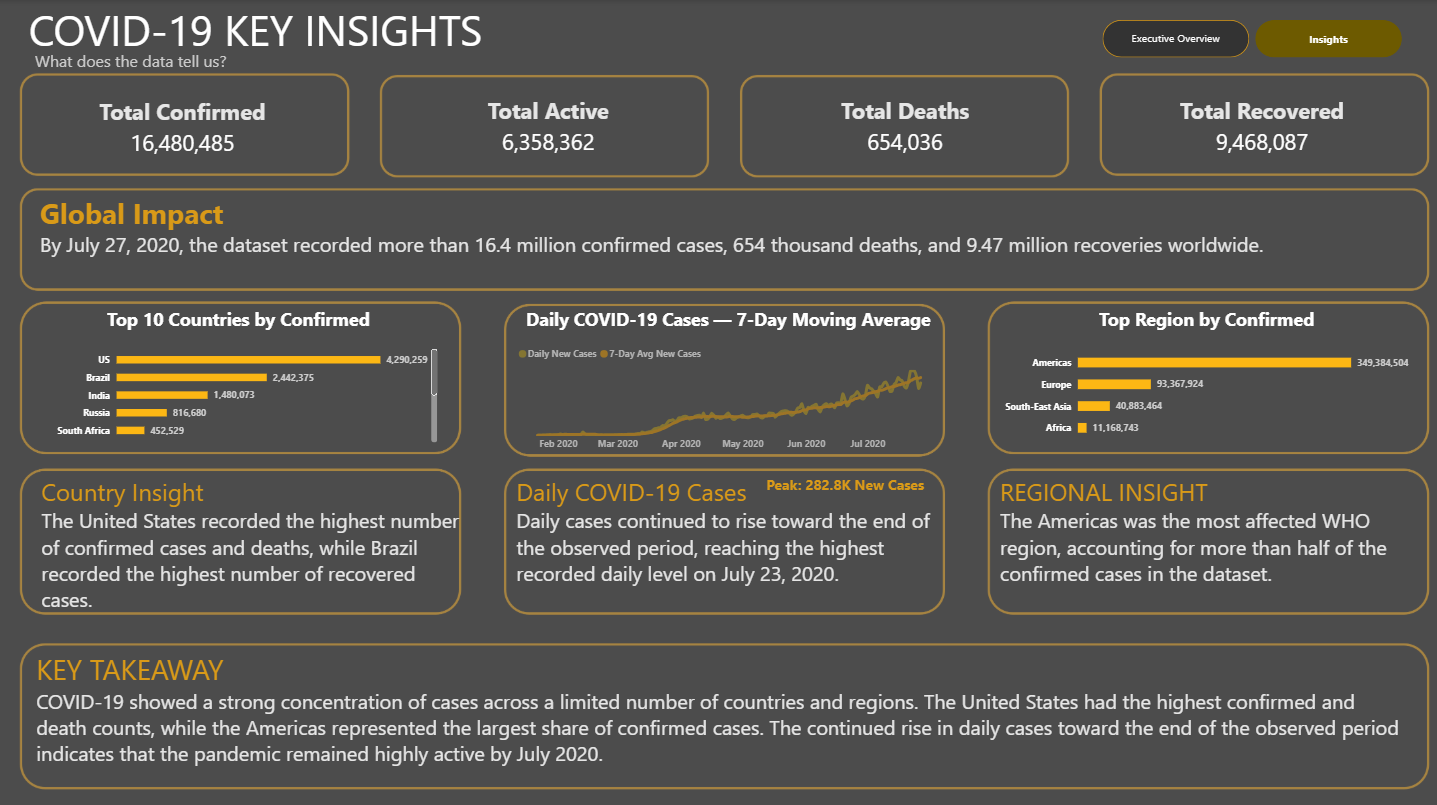

The dashboard page shown, as its layout file describes it:
{"tool":"powerbi","page":{"name":"Insights","canvas":[1920,1080],"ordinal":1},"visuals":[{"type":"cardVisual","fields":{"Data":["_Measures.Total Confirmed"]},"box":[36.7,110.2,414.1,118.6],"z":0},{"type":"cardVisual","fields":{"Data":["_Measures.Total Active"]},"box":[505.8,104.7,453.5,127.3],"z":1},{"type":"cardVisual","fields":{"Data":["_Measures.Total Deaths"]},"box":[989,104.7,441.3,127.3],"z":2},{"type":"cardVisual","fields":{"Data":["_Measures.Total Recovered"]},"box":[1473.8,104.7,423.8,127.3],"z":3},{"type":"textbox","box":[54.1,258.1,1662.2,118.6],"z":4},{"type":"clusteredBarChart","fields":{"Category":["FactCOVID.Country"],"Y":["_Measures.Total Confirmed"]},"box":[36.6,395.9,563.4,211],"z":5},{"type":"clusteredBarChart","title":"Top Region by Confirmed","fields":{"Category":["FactCOVID.Region"],"Y":["_Measures.Confirmed"]},"box":[1325.6,395.9,572.1,211],"z":7},{"type":"textbox","box":[54.3,635.2,563,211],"z":8},{"type":"textbox","box":[689.5,635.2,580.9,211.7],"z":9},{"type":"lineChart","fields":{"Category":["DateTable.Date"],"Y":["_Measures.Daily New Cases","_Measures.7-Day Avg New Cases"]},"box":[676.8,396.3,593.6,226.2],"z":10},{"type":"textbox","box":[1024.3,635.2,285.9,52.5],"z":11},{"type":"textbox","box":[1335.5,635.2,562.8,177.3],"z":12},{"type":"textbox","box":[48.9,868.6,1820.5,177.3],"z":13},{"type":"textbox","box":[38,0,846.9,105],"z":14},{"type":"textbox","box":[47.1,67,403.6,43.4],"z":15},{"type":"pageNavigator","box":[1473.1,27.1,400,50],"z":16}]}

Visuals, with their boxes in screenshot pixels (x1, y1, x2, y2), scaled from the page's 1920x1080 canvas onto the 1437x805 screenshot:
cardVisual - _Measures.Total Confirmed: x1=27 y1=82 x2=337 y2=171
cardVisual - _Measures.Total Active: x1=379 y1=78 x2=718 y2=173
cardVisual - _Measures.Total Deaths: x1=740 y1=78 x2=1070 y2=173
cardVisual - _Measures.Total Recovered: x1=1103 y1=78 x2=1420 y2=173
textbox: x1=40 y1=192 x2=1285 y2=281
clusteredBarChart - FactCOVID.Country x _Measures.Total Confirmed: x1=27 y1=295 x2=449 y2=452
"Top Region by Confirmed" clusteredBarChart: x1=992 y1=295 x2=1420 y2=452
textbox: x1=41 y1=473 x2=462 y2=631
textbox: x1=516 y1=473 x2=951 y2=631
lineChart - DateTable.Date x _Measures.Daily New Cases: x1=507 y1=295 x2=951 y2=464
textbox: x1=767 y1=473 x2=981 y2=513
textbox: x1=1000 y1=473 x2=1421 y2=606
textbox: x1=37 y1=647 x2=1399 y2=780
textbox: x1=28 y1=0 x2=662 y2=78
textbox: x1=35 y1=50 x2=337 y2=82
pageNavigator: x1=1103 y1=20 x2=1402 y2=57
